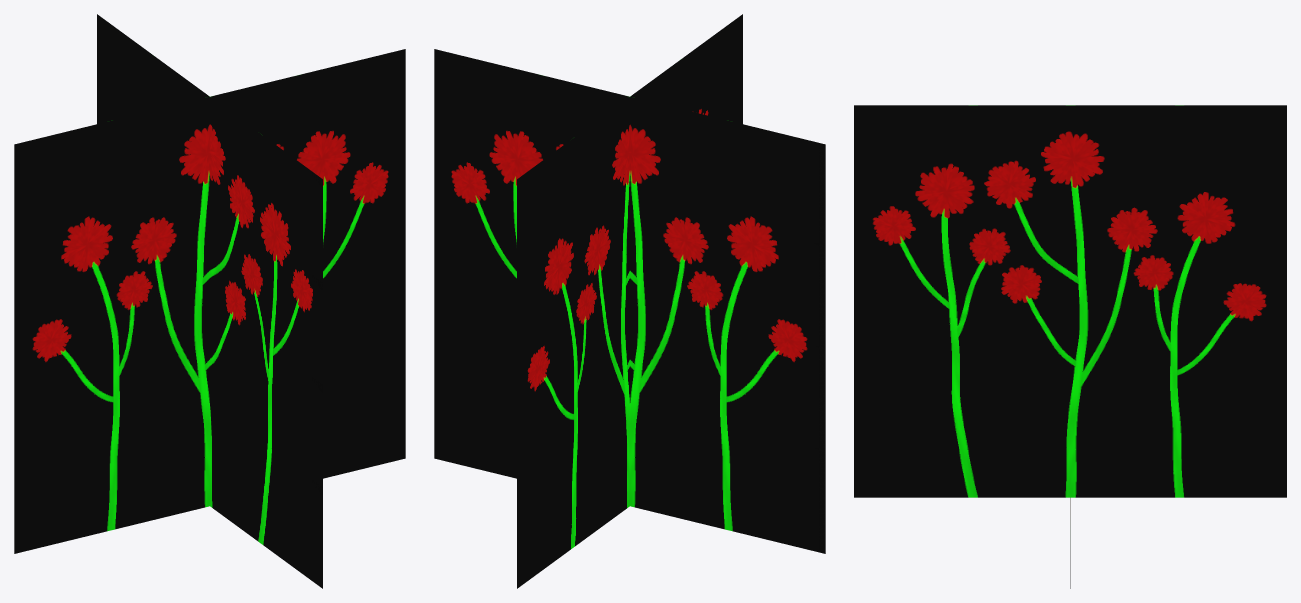
Rendered from Flower01.fbx.
3 renders of one model, left to right at view 1: azimuth 30°, elevation 25°; view 2: azimuth 150°, elevation 25°; view 3: azimuth 270°, elevation 25°, orthographic. The views are drawn at different scales.
Visible parts, largest first — view 1: Flower01_LOD0; view 2: Flower01_LOD0; view 3: Flower01_LOD0.
Part boxes in pixels (x1,y1,x2,y2): Flower01_LOD0: [14, 14, 405, 588]; Flower01_LOD0: [434, 14, 825, 588]; Flower01_LOD0: [854, 105, 1286, 588].
Size of what is drawn, in the model's own units: 61.19 by 61.19 by 61.19.
